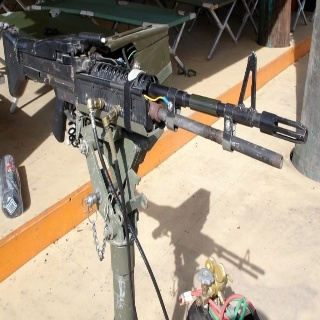rifle: (2, 24, 312, 172)
